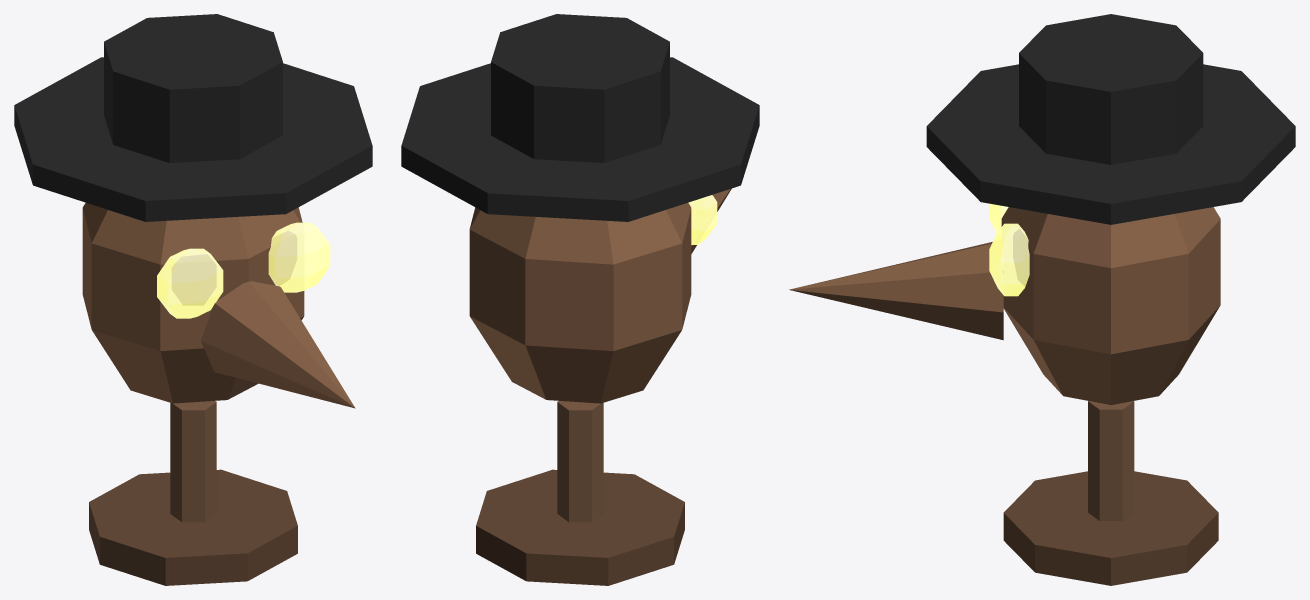
Rendered from std_plague_mask.glb.
3 renders of one model, left to right at view 1: azimuth 30°, elevation 25°; view 2: azimuth 150°, elevation 25°; view 3: azimuth 270°, elevation 25°, orthographic.
Visible parts, largest first — view 1: std_plague_mask; view 2: std_plague_mask; view 3: std_plague_mask.
Boxes of the visible parts, <box> form: std_plague_mask: <box>14,14,372,585</box>; std_plague_mask: <box>401,14,759,585</box>; std_plague_mask: <box>789,14,1295,585</box>.
Size of the model in its own units: 0.2182 by 0.3182 by 0.3.
